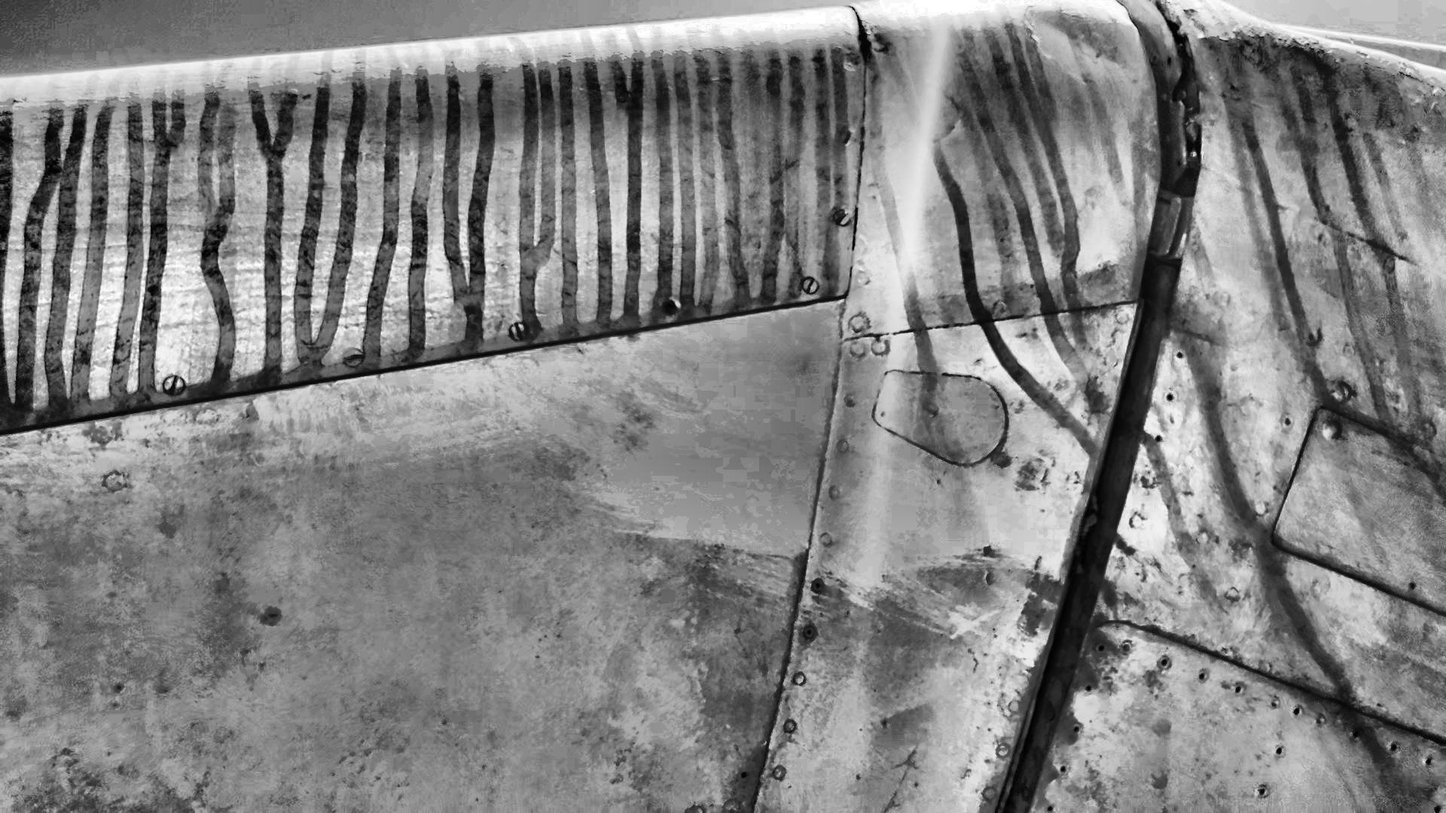dent: (1036, 11, 1126, 73), (887, 691, 934, 725), (1077, 254, 1124, 284)
missing-head: (659, 297, 678, 316), (811, 578, 825, 595), (804, 623, 819, 638), (1159, 659, 1171, 668), (1096, 643, 1106, 653), (1176, 349, 1184, 360), (1060, 764, 1069, 773), (1258, 787, 1267, 796), (1293, 706, 1301, 715), (1352, 729, 1360, 738), (1085, 684, 1093, 692), (1199, 673, 1207, 681), (1166, 393, 1173, 402), (1391, 744, 1399, 751), (1426, 758, 1433, 766), (1434, 805, 1441, 813), (1234, 687, 1241, 694), (1276, 748, 1283, 755), (1073, 725, 1079, 733), (1155, 435, 1161, 442), (1048, 805, 1054, 811)
